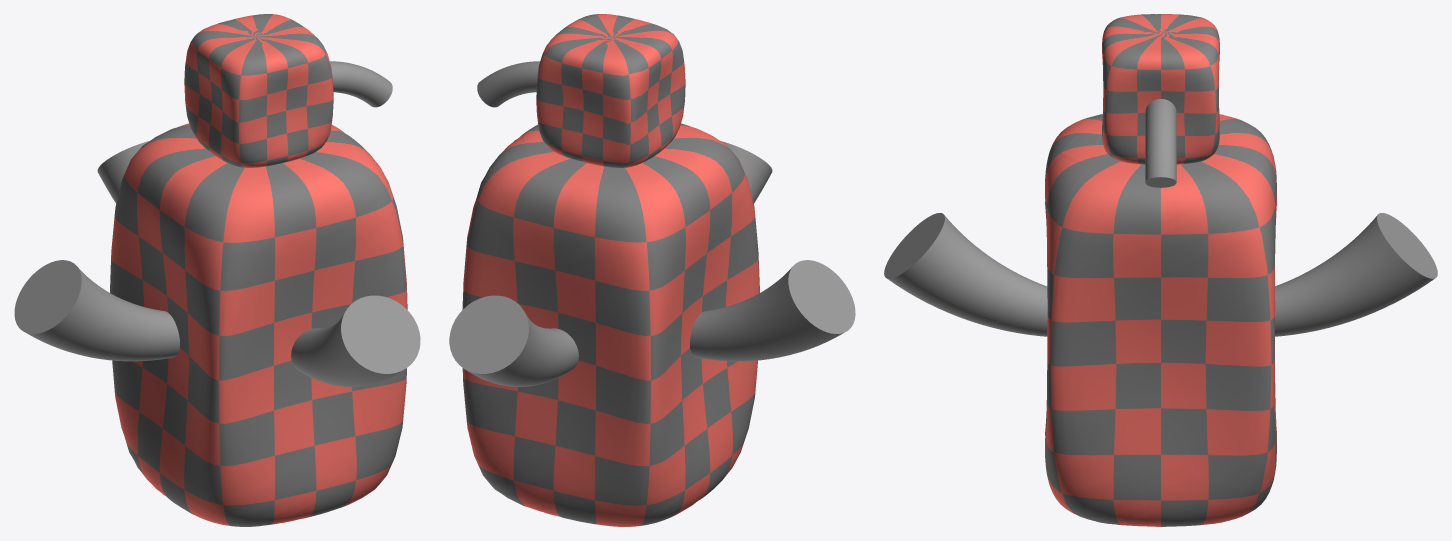
3 views of the same model, side by side, from view 1: azimuth 30°, elevation 25°; view 2: azimuth 150°, elevation 25°; view 3: azimuth 270°, elevation 25° (orthographic).
Visible parts, largest first — view 1: Box001, Box002, Cone004, Cone002, Cone001, Cone003; view 2: Box001, Box002, Cone004, Cone003, Cone001, Cone002; view 3: Box001, Box002, Cone002, Cone003, Cone001.
Part boxes in pixels (x1,y1,x2,y2): Box001: [110, 123, 407, 526]; Box002: [184, 14, 333, 167]; Cone004: [14, 260, 179, 361]; Cone002: [291, 295, 420, 386]; Cone001: [330, 61, 392, 107]; Cone003: [97, 141, 149, 203]; Box001: [462, 123, 759, 526]; Box002: [536, 14, 685, 167]; Cone004: [690, 260, 855, 361]; Cone003: [449, 295, 578, 386]; Cone001: [477, 61, 539, 107]; Cone002: [721, 141, 772, 203]; Box001: [1045, 114, 1276, 526]; Box002: [1102, 14, 1219, 164]; Cone002: [884, 213, 1047, 336]; Cone003: [1275, 213, 1437, 336]; Cone001: [1145, 99, 1176, 187].
Bounding box in the file's own units: 54.94 × 64.72 × 70.76.
Materials: 2 (1 with a texture image).
